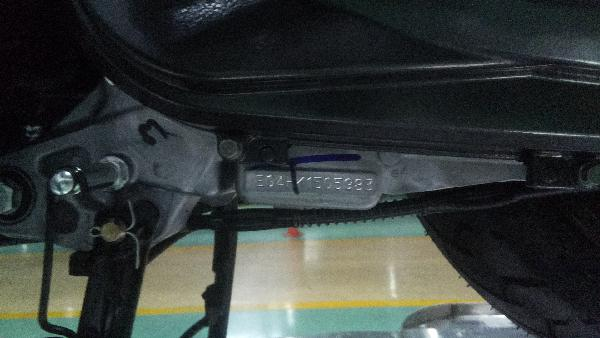box: (255, 174, 372, 193)
